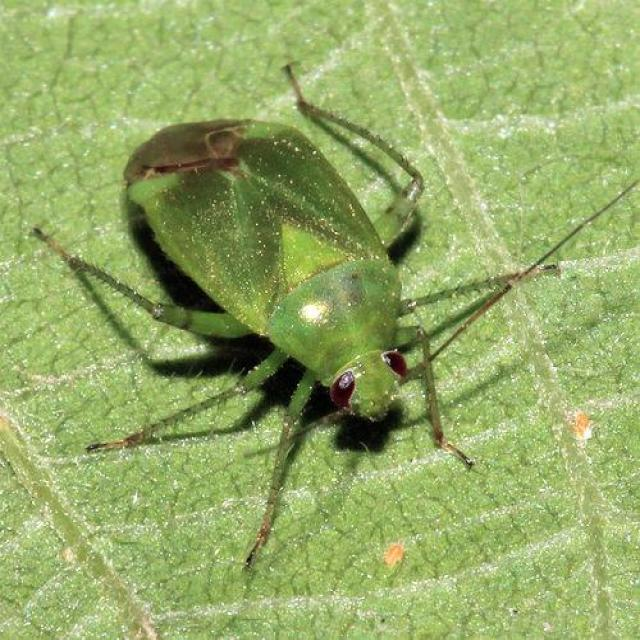Miridae-Adult-: (22, 59, 579, 529)
